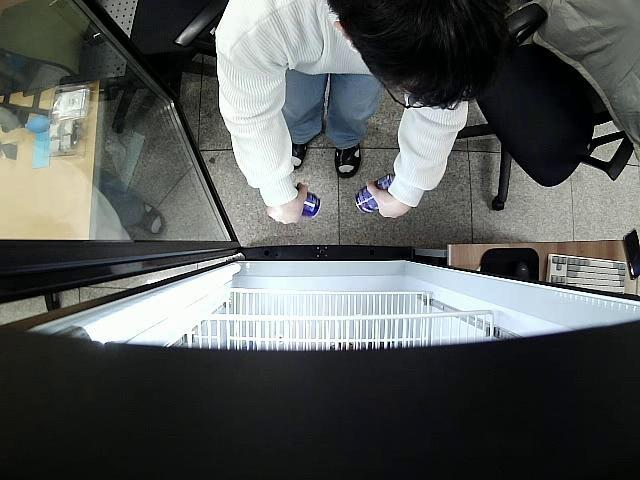14_welchsGrape: (354, 176, 394, 216), (292, 186, 322, 221)
